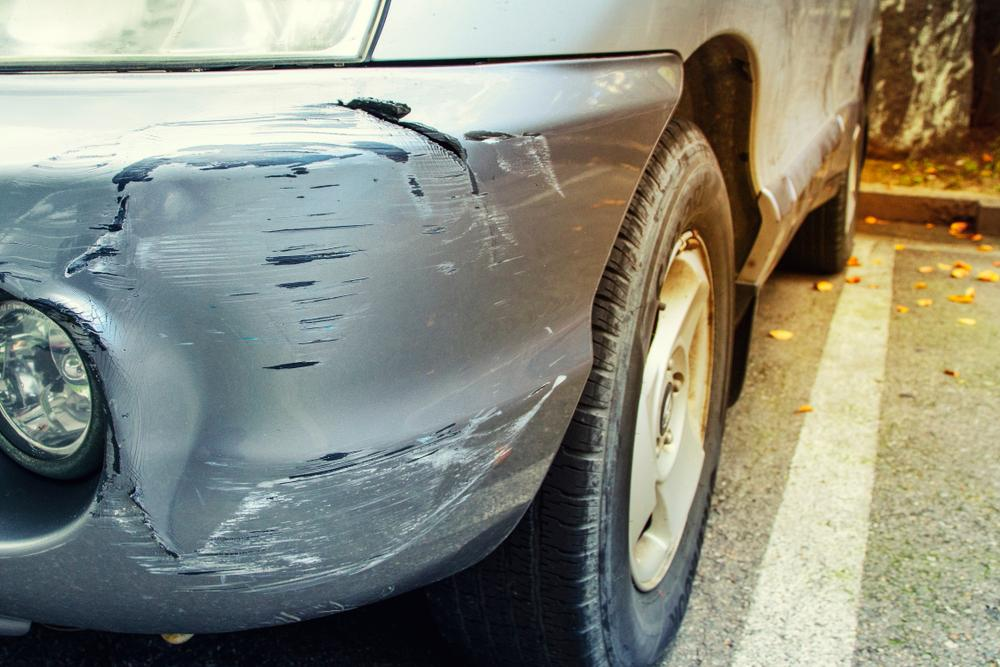crack: (302, 98, 549, 204)
dent: (108, 291, 253, 553)
scratch: (0, 98, 588, 592)
